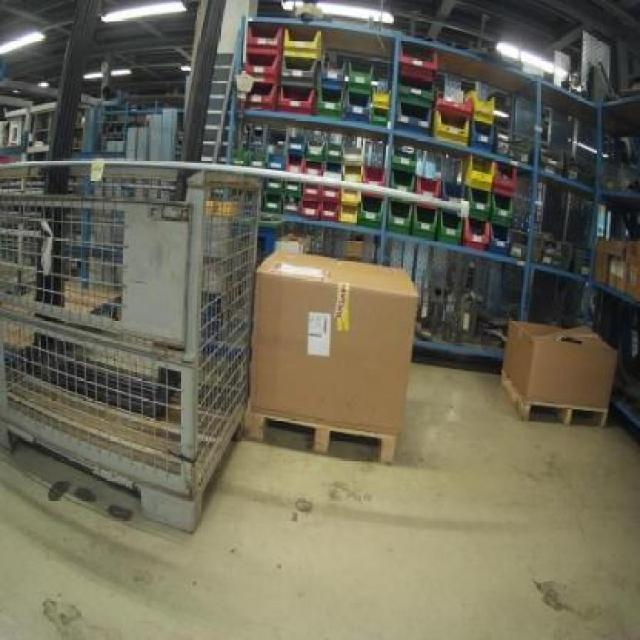pallet: (241, 411, 407, 457), (518, 402, 628, 434)
